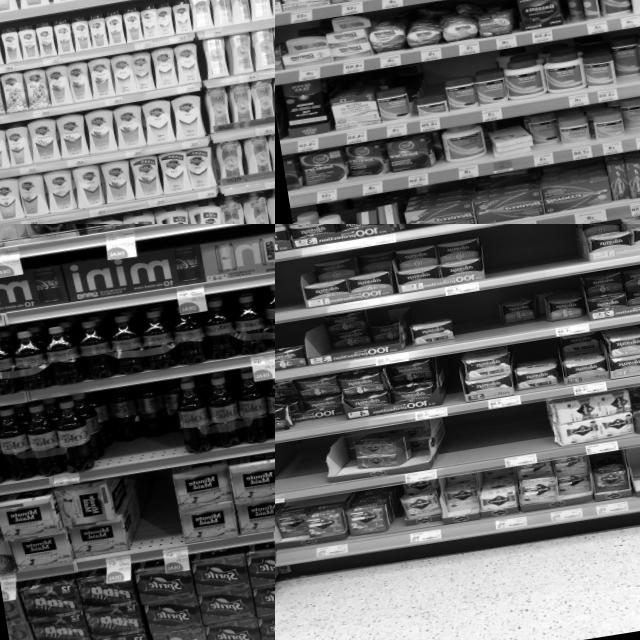100- O.O.S: (448, 402, 552, 476), (481, 224, 581, 287), (275, 436, 331, 505), (140, 472, 182, 562), (448, 289, 504, 352), (275, 260, 305, 330)
